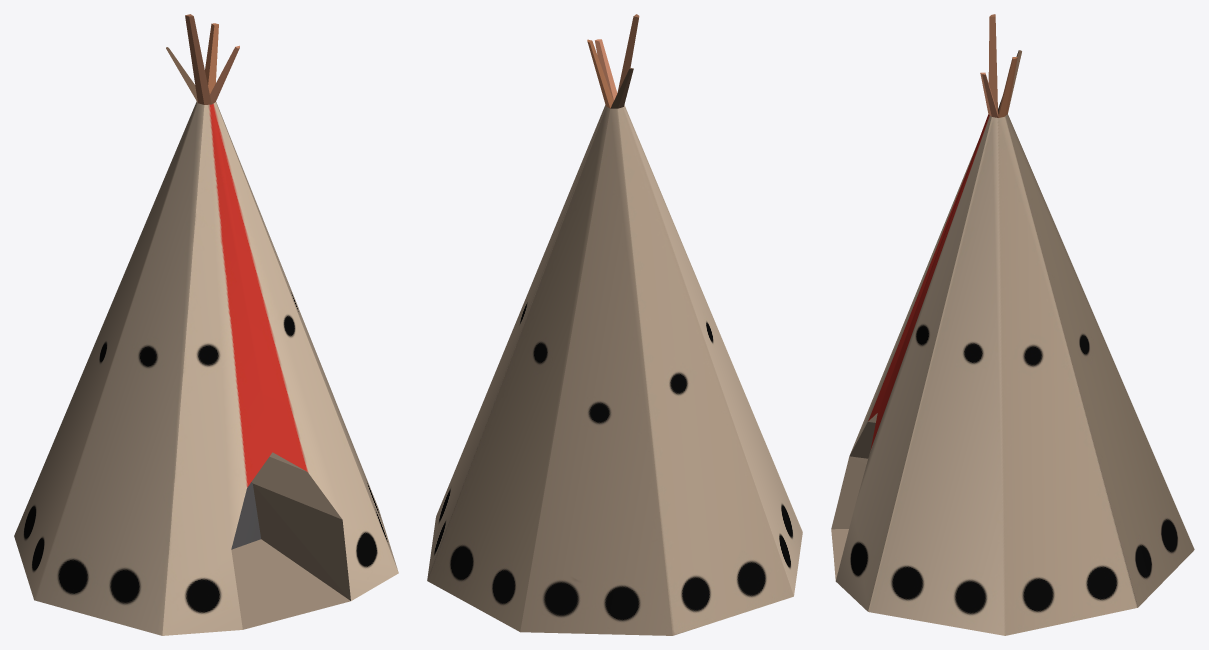
The model's file is tipi.FBX.
3 views of the same model, side by side, from view 1: azimuth 30°, elevation 25°; view 2: azimuth 150°, elevation 25°; view 3: azimuth 270°, elevation 25° (orthographic). The views are drawn at different scales.
Visible parts, largest first — view 1: tipi; view 2: tipi; view 3: tipi.
Part boxes in pixels (bbox=[...]): tipi: bbox=[14, 14, 398, 635]; tipi: bbox=[427, 14, 802, 635]; tipi: bbox=[831, 14, 1194, 635].
Bounding box in the file's own units: 1148 × 1700 × 1061.
